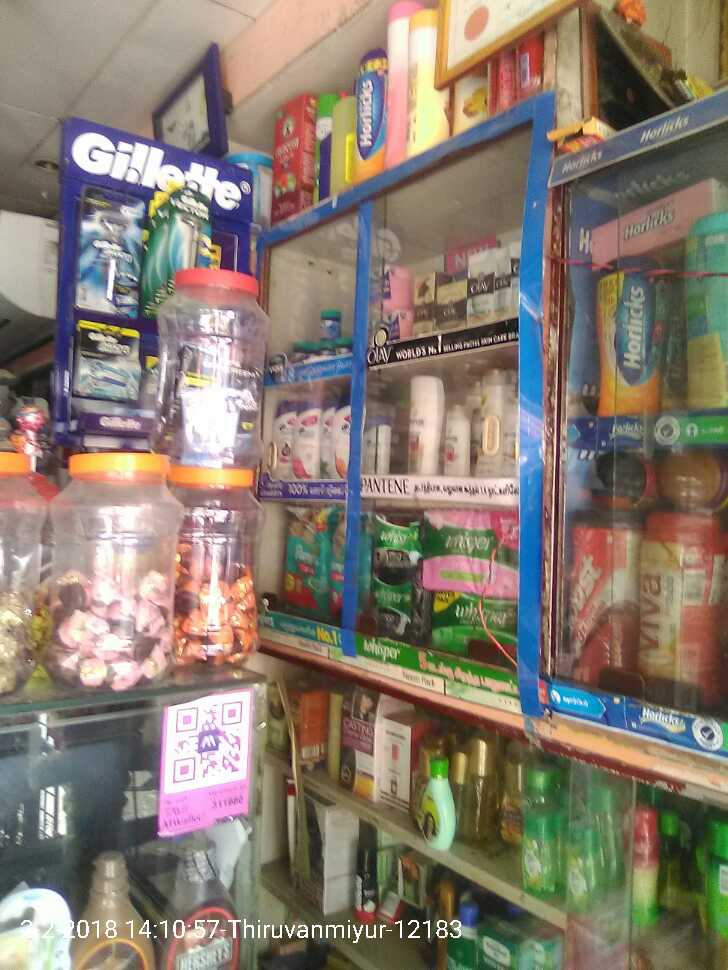vicks: (278, 307, 362, 371)
